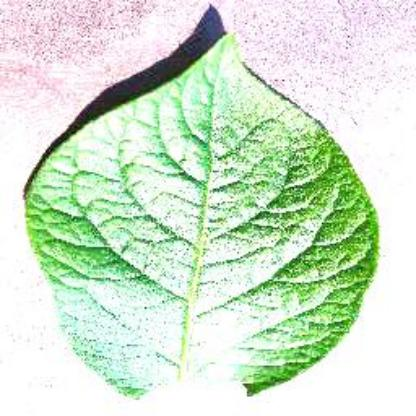Healthy-plant: (17, 26, 389, 402)
